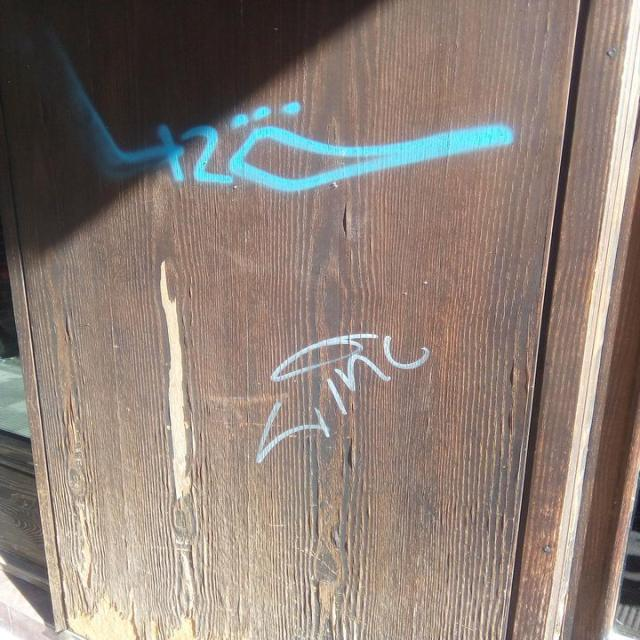nonspitting: (100, 102, 512, 191), (253, 332, 430, 463)
